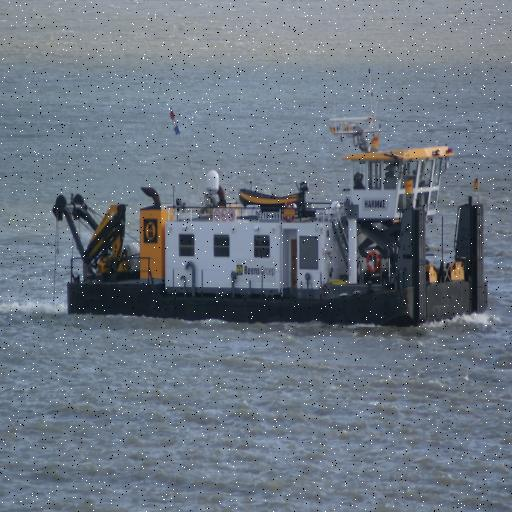tugboat: (50, 113, 497, 348)
